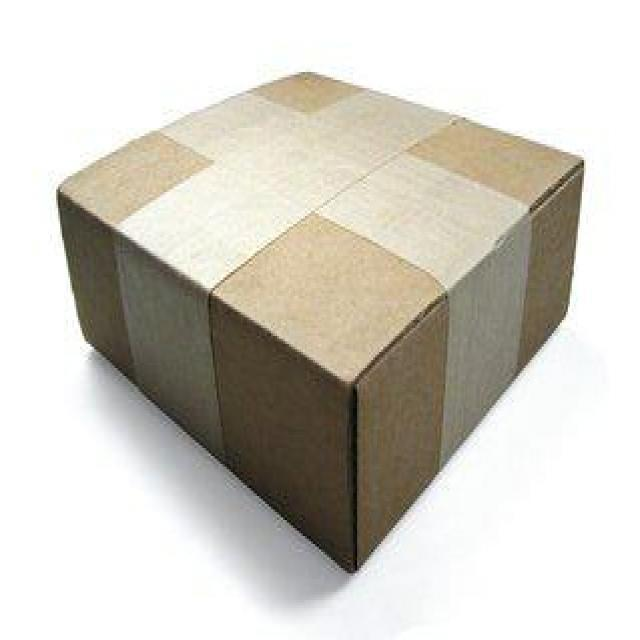box: (58, 67, 590, 576)
